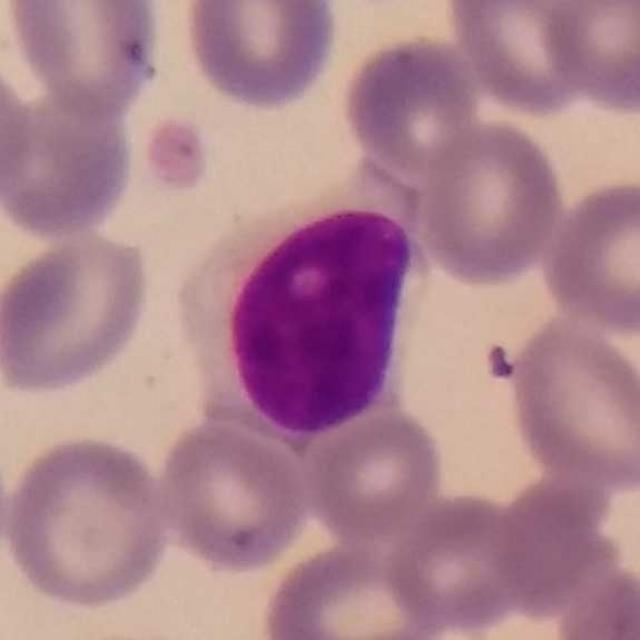Lymphocyte: (180, 167, 422, 494)
Platelets: (144, 118, 213, 193), (480, 338, 520, 388)
RBC: (0, 425, 173, 608), (414, 114, 569, 290), (0, 227, 156, 399), (1, 58, 143, 244), (150, 418, 313, 576), (503, 312, 640, 491), (382, 488, 534, 636), (336, 30, 483, 178), (1, 0, 169, 124), (256, 534, 449, 640), (300, 405, 448, 542), (387, 561, 637, 640), (438, 0, 599, 119), (177, 0, 344, 114), (537, 172, 640, 338), (537, 0, 640, 117), (548, 563, 640, 640), (0, 48, 37, 214)
